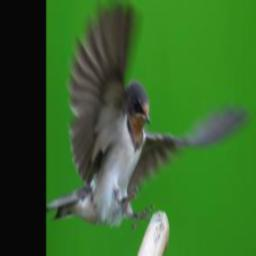Swallow: (50, 0, 248, 231)
